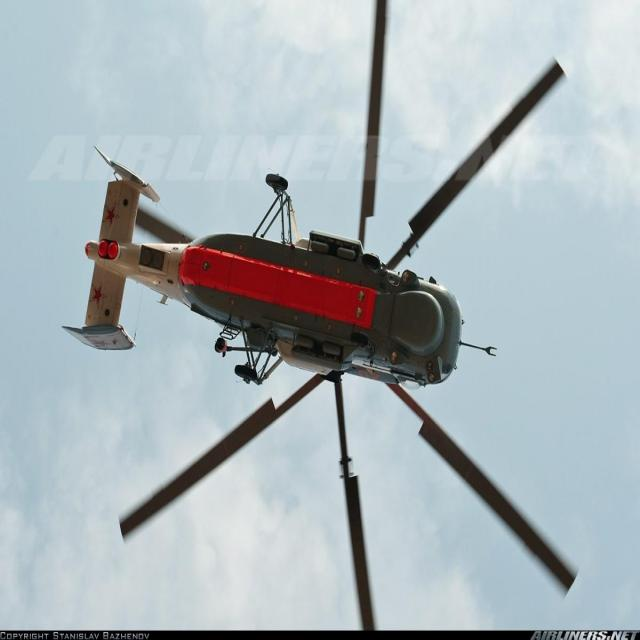MIL_HELO: (63, 7, 588, 630)
